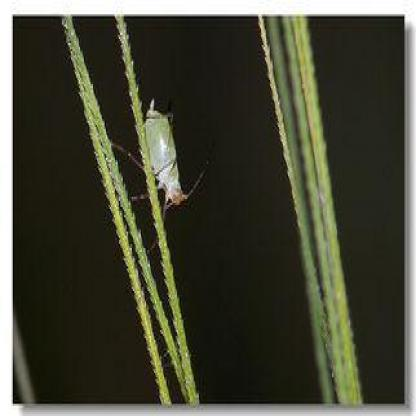aphid: (137, 90, 192, 217)
